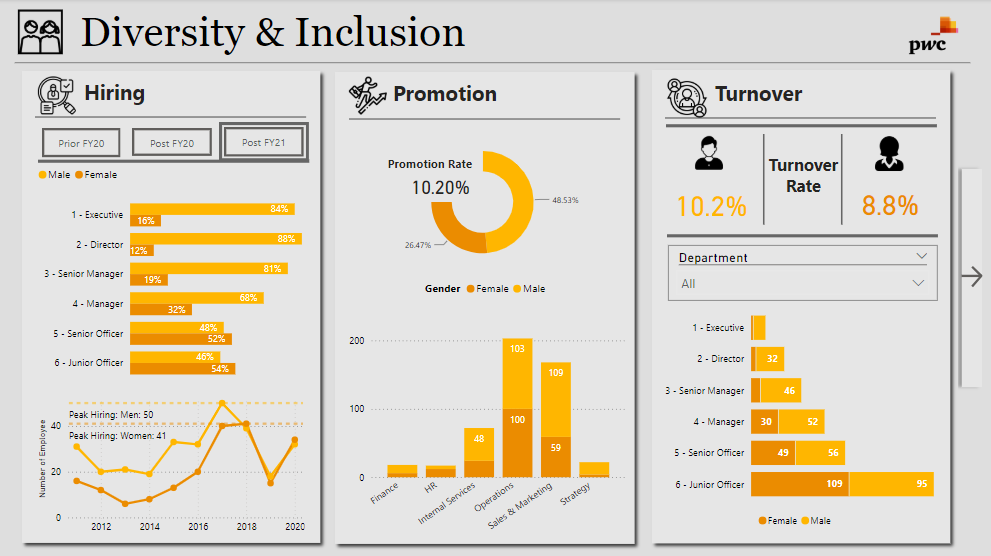

This screenshot's page, from the dashboard's own definition file:
{"tool":"powerbi","page":{"name":"Page 1","canvas":[1280,720],"ordinal":0},"visuals":[{"type":"shape","title":"Hiring BG","box":[19.6,83.5,402.7,626.9],"z":0},{"type":"donutChart","fields":{"Y":["HR Manager.FY21 Promotion Men","HR Manager.FY21 Promotion Women","HR Manager.FY21Promo:270DountChart"]},"box":[462.8,170.1,318.6,183.4],"z":0,"group":"g1"},{"type":"card","fields":{"Values":["HR Manager.Women Turnover Rate"]},"box":[861.5,222.1,111.5,84],"z":0,"group":"g2"},{"type":"shape","box":[501.2,182.5,121.4,78.6],"z":1000,"group":"g1"},{"type":"shape","title":"FYs Line","box":[49.1,189.9,350.3,39.3],"z":1000},{"type":"card","fields":{"Values":["HR Manager.Men Turnover Rate"]},"box":[1099.7,222.9,96.3,79.8],"z":1000,"group":"g2"},{"type":"shape","title":"Prior FY20 BG","box":[47.5,160.4,116.2,50.7],"z":2000},{"type":"textbox","box":[978.5,194,114.2,77.1],"z":2000,"group":"g2"},{"type":"textbox","box":[487.4,197.6,133.8,53.8],"z":2000,"group":"g1"},{"type":"card","fields":{"Values":["HR Manager.Promotion Rate FY21"]},"box":[515,211.4,106.2,62.1],"z":3000,"group":"g1"},{"type":"shape","title":"FYs Line","box":[860.2,268.4,349.6,74.3],"z":3000,"group":"g2"},{"type":"shape","title":"FYs Line","box":[858.8,126.6,349.6,74.2],"z":3500,"group":"g2"},{"type":"shape","title":"Promotion BG","box":[423.3,85.5,404.3,626.9],"z":4000},{"type":"image","box":[886.6,162.9,53.7,71.6],"z":4000,"group":"g2"},{"type":"image","box":[1119.2,150.5,55.1,97.7],"z":5000,"group":"g2"},{"type":"shape","title":"Turnover BG","box":[832.7,83.2,402.7,628.5],"z":6000},{"type":"actionButton","title":"Post FY20","box":[170.2,167,103.1,36],"z":7000},{"type":"textbox","box":[98.1,6.5,660.6,74.8],"z":8000},{"type":"actionButton","title":"Post FY21","box":[289.1,165.5,102.7,38.2],"z":9000},{"type":"basicShape","box":[9.5,62.4,1253,40.5],"z":10000},{"type":"actionButton","title":"Prior FY20","box":[54,167,101.5,37.6],"z":11000},{"type":"image","box":[1129,0,151,94.2],"z":12000},{"type":"image","box":[18.2,1.6,67.5,81],"z":13000},{"type":"clusteredBarChart","title":"# of Employee hired in Prior FY20","fields":{"Category":["HR Manager.Job Level before FY20 promotions"],"Y":["HR Manager.% Hired Men","HR Manager.% Hired Women"]},"box":[48.3,204.1,375.2,299.3],"z":16000},{"type":"lineChart","fields":{"Y":["HR Manager.# Hired Men","HR Manager.# Hired Women"],"Category":["HR Manager.Last hire date.Variation.Date Hierarchy.Year"]},"box":[44.1,503.4,354.5,195.9],"z":17000},{"type":"columnChart","fields":{"Category":["HR Manager.Department @01.07.2020"],"Y":["CountNonNull(HR Manager.Promotion in FY21?)"],"Series":["HR Manager.Gender"]},"box":[445.3,353.8,366.9,355.9],"z":18000},{"type":"group","id":"g1","title":"Promo FY21 dount chart","box":[462.8,170.1,318.6,183.4],"z":20000},{"type":"barChart","fields":{"Category":["HR Manager.Job Level after FY20 promotions"],"Y":["CountNonNull(HR Manager.Employee ID)"],"Series":["HR Manager.Gender"]},"box":[845.1,379.9,364.7,312.4],"z":22000},{"type":"slicer","fields":{"Values":["HR Manager.Last Department in FY20"]},"box":[861.6,317.9,348.2,71.6],"z":23000},{"type":"shape","title":"Line of Hiring","box":[44.5,132,349.8,41.3],"z":24000},{"type":"shape","title":"Line of Promotion","box":[450.5,134,349.8,41.3],"z":25000},{"type":"shape","title":"Line of Promotion","box":[858.6,133,349.6,41.2],"z":26000},{"type":"textbox","box":[103.1,96.6,134.2,57.3],"z":27000},{"type":"textbox","box":[501.9,98.6,160.4,57.3],"z":28000},{"type":"textbox","box":[917.8,98,160.4,57.3],"z":29000},{"type":"image","box":[855.6,96.3,62.2,62.2],"z":30000},{"type":"image","box":[44.2,93.3,58.9,63.8],"z":31000},{"type":"image","box":[444.6,93.7,58.9,60.6],"z":32000},{"type":"group","id":"g2","title":"Turnover rate","box":[858.8,126.6,351,216.1],"z":33000},{"type":"shape","box":[949.7,174.8,71.6,117],"z":34000},{"type":"shape","box":[1050.2,174.8,71.6,117],"z":35000},{"type":"shape","box":[1232.3,210.3,43.9,299.4],"z":35500},{"type":"actionButton","box":[1234.8,211.3,37.2,292.4],"z":36000}]}

Visuals, with their boxes in screenshot pixels (x1, y1, x2, y2), scaled from the page's 1280x720 canvas onto the 991x556 screenshot:
"Hiring BG" shape: x1=15, y1=64, x2=327, y2=549
donutChart - HR Manager.FY21 Promotion Men x HR Manager.FY21 Promotion Women: x1=358, y1=131, x2=605, y2=273
card - HR Manager.Women Turnover Rate: x1=667, y1=172, x2=753, y2=236
shape: x1=388, y1=141, x2=482, y2=202
"FYs Line" shape: x1=38, y1=147, x2=309, y2=177
card - HR Manager.Men Turnover Rate: x1=851, y1=172, x2=926, y2=234
"Prior FY20 BG" shape: x1=37, y1=124, x2=127, y2=163
textbox: x1=758, y1=150, x2=846, y2=209
textbox: x1=377, y1=153, x2=481, y2=194
card - HR Manager.Promotion Rate FY21: x1=399, y1=163, x2=481, y2=211
"FYs Line" shape: x1=666, y1=207, x2=937, y2=265
"FYs Line" shape: x1=665, y1=98, x2=936, y2=155
"Promotion BG" shape: x1=328, y1=66, x2=641, y2=550
image: x1=686, y1=126, x2=728, y2=181
image: x1=867, y1=116, x2=909, y2=192
"Turnover BG" shape: x1=645, y1=64, x2=956, y2=550
"Post FY20" actionButton: x1=132, y1=129, x2=212, y2=157
textbox: x1=76, y1=5, x2=587, y2=63
"Post FY21" actionButton: x1=224, y1=128, x2=303, y2=157
basicShape: x1=7, y1=48, x2=977, y2=79
"Prior FY20" actionButton: x1=42, y1=129, x2=120, y2=158
image: x1=874, y1=0, x2=990, y2=73
image: x1=14, y1=1, x2=66, y2=64
"# of Employee hired in Prior FY20" clusteredBarChart: x1=37, y1=158, x2=328, y2=389
lineChart - HR Manager.# Hired Men x HR Manager.# Hired Women: x1=34, y1=389, x2=309, y2=540
columnChart - HR Manager.Department @01.07.2020 x CountNonNull(HR Manager.Promotion in FY21?): x1=345, y1=273, x2=629, y2=548
"Promo FY21 dount chart" group: x1=358, y1=131, x2=605, y2=273
barChart - HR Manager.Job Level after FY20 promotions x CountNonNull(HR Manager.Employee ID): x1=654, y1=293, x2=937, y2=535
slicer - HR Manager.Last Department in FY20: x1=667, y1=245, x2=937, y2=301
"Line of Hiring" shape: x1=34, y1=102, x2=305, y2=134
"Line of Promotion" shape: x1=349, y1=103, x2=620, y2=135
"Line of Promotion" shape: x1=665, y1=103, x2=935, y2=135
textbox: x1=80, y1=75, x2=184, y2=119
textbox: x1=389, y1=76, x2=513, y2=120
textbox: x1=711, y1=76, x2=835, y2=120
image: x1=662, y1=74, x2=711, y2=122
image: x1=34, y1=72, x2=80, y2=121
image: x1=344, y1=72, x2=390, y2=119
"Turnover rate" group: x1=665, y1=98, x2=937, y2=265
shape: x1=735, y1=135, x2=791, y2=225
shape: x1=813, y1=135, x2=869, y2=225
shape: x1=954, y1=162, x2=988, y2=394
actionButton: x1=956, y1=163, x2=985, y2=389
